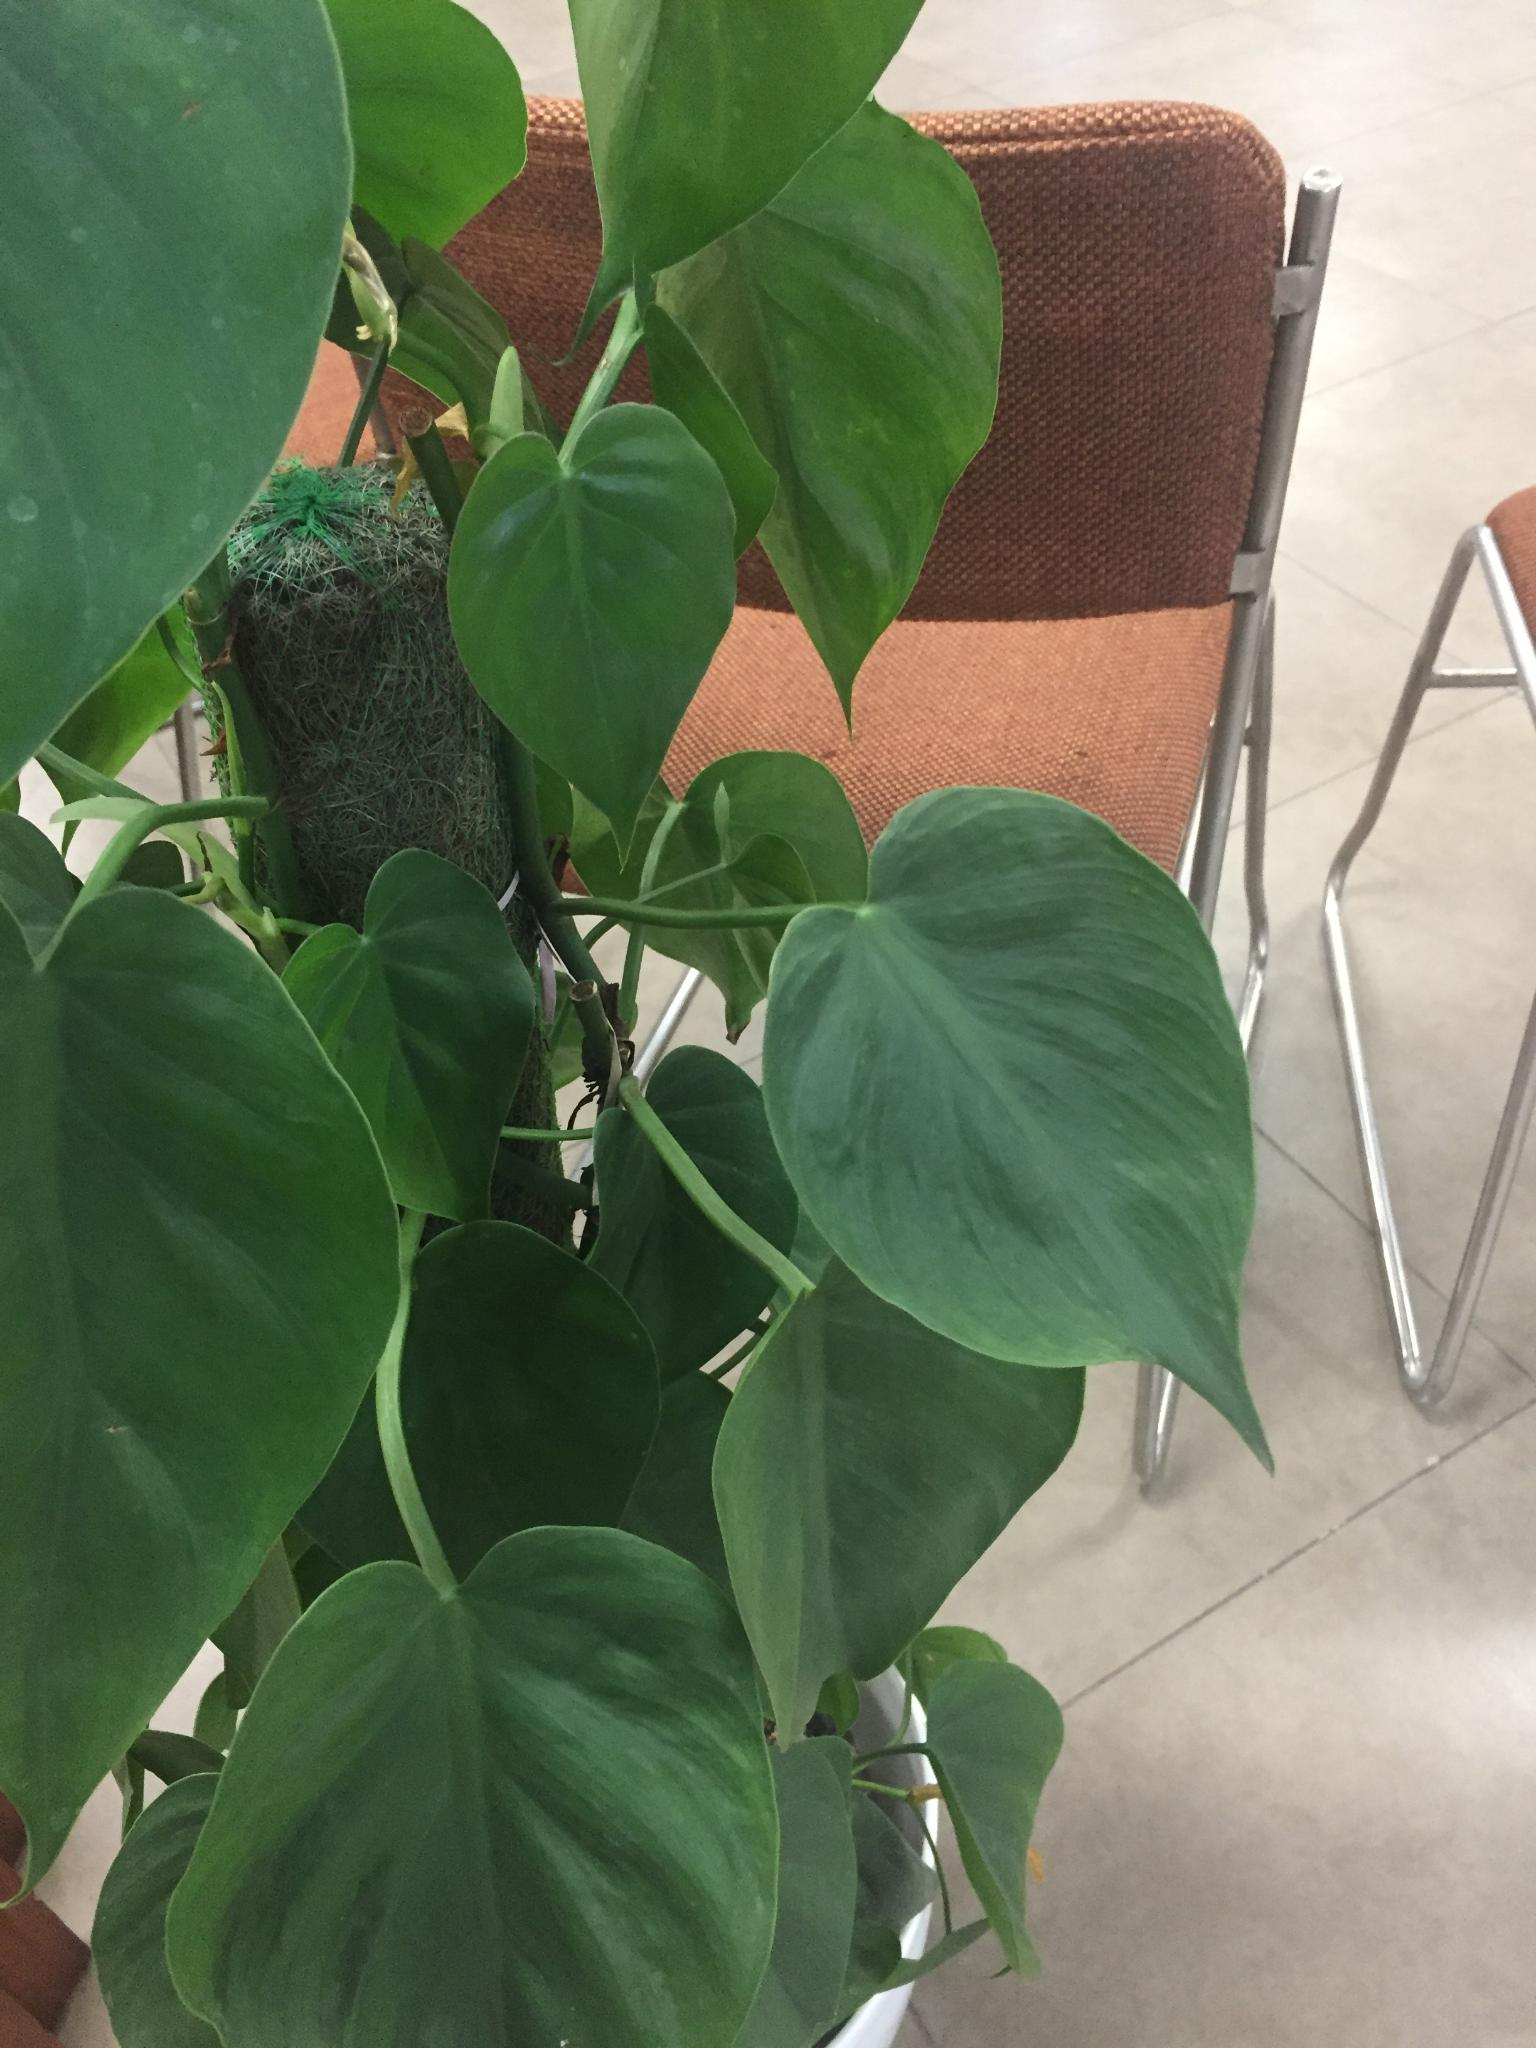chair: (305, 92, 1342, 1492), (1320, 484, 1534, 1409)
